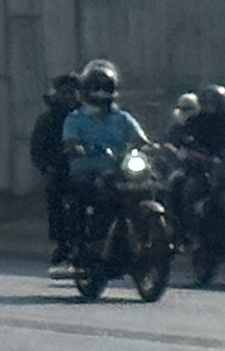BikeWithRider: (31, 57, 174, 304), (166, 82, 225, 288)
Helmet: (75, 57, 122, 109), (196, 82, 225, 116)
NoHelmet: (55, 71, 85, 110), (174, 94, 201, 126)
